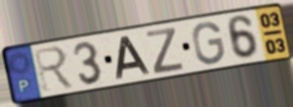3: (72, 39, 106, 87)
6: (226, 14, 261, 61)
A: (114, 35, 153, 81)
G: (191, 20, 227, 66)
R: (32, 44, 78, 94)
Z: (145, 26, 186, 76)
